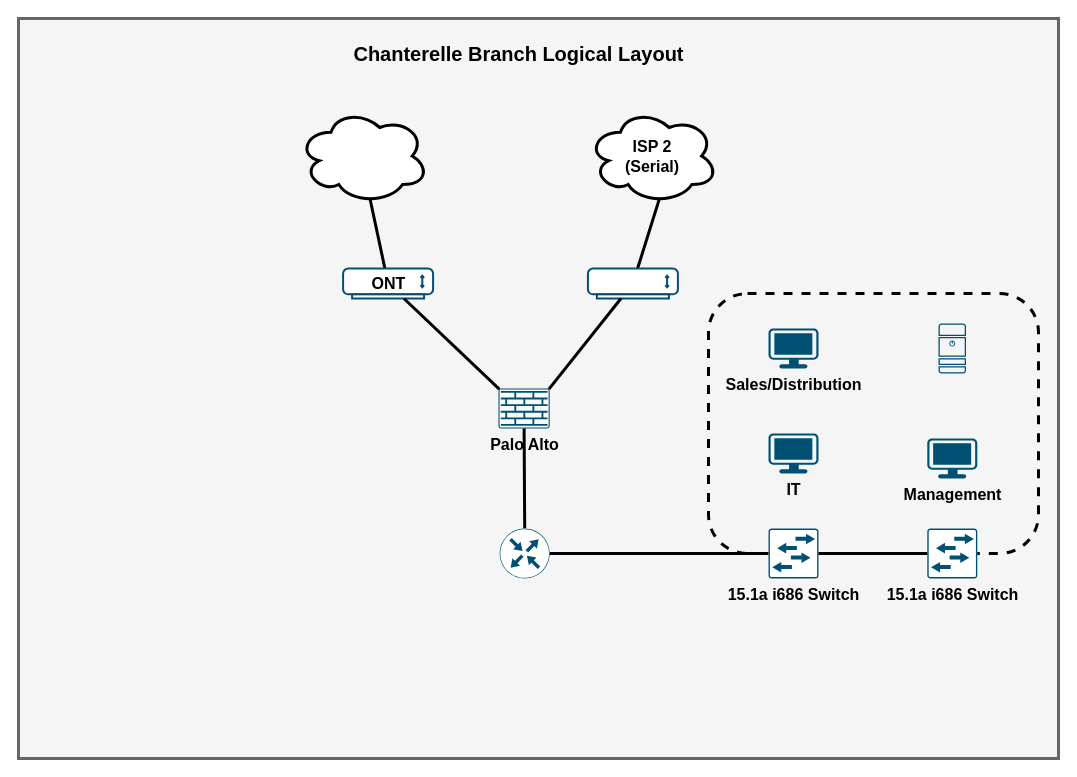
Some shapes in this 1077 by 777 pixel diagram are drawn without their labels. Here are the shapes that lost their labels. From the top down, the centre of each, then its label:
(x=363, y=155): ISP 1 (FIBER)
(x=632, y=283): Modem
(x=952, y=348): Internal Server s
(x=524, y=553): c3640 Router
